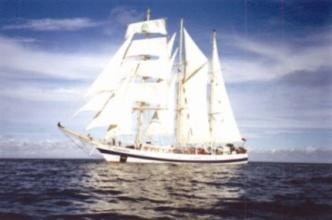fanchuan: (61, 22, 246, 161)
